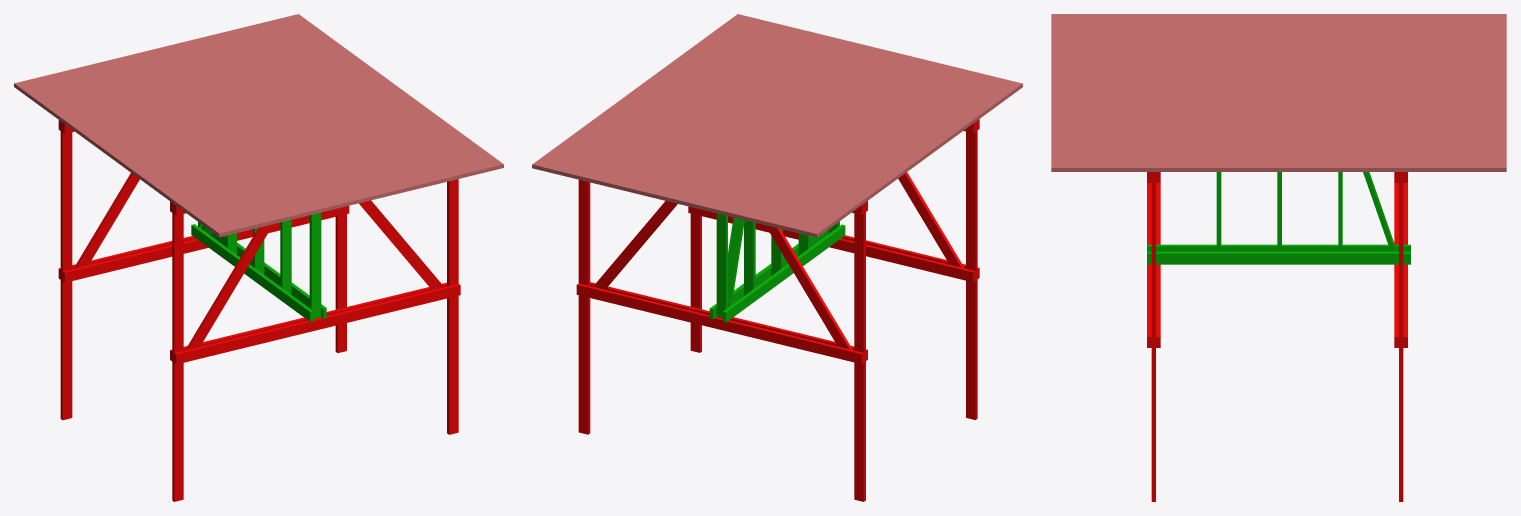
The model's file is result.glb.
3 views of the same model, side by side, from view 1: azimuth 30°, elevation 25°; view 2: azimuth 150°, elevation 25°; view 3: azimuth 270°, elevation 25° (orthographic). The views are drawn at different scales.
Visible parts, largest first — view 1: a7c42fb3-864b-46ea-a46b-86ad81dacef1__undefined, cdd0c3d6-4b4d-438e-8c69-cc004ac916c7__sideH, 1d789a78-2338-4fc1-8af0-4e735b23efe9__sideV, 739abf73-03b9-49d8-90ad-7254d4534e05__sideV, 1f3ede9b-6239-475a-b7fc-2927ff14ca6d__Box, 9e299f16-4678-448e-a8d7-bd8058979723__undefined, 7cb5459e-5a18-4056-b10f-47c450efceb4__undefined, c22b1072-e2bc-4392-9876-aa3f459491ad__undefined, 58cb578d-e434-43cd-85fd-0dd636f7fe42__undefined, 5210bee1-314a-4aca-9c41-fb273ec0efe6__undefined, ec302bc6-7ffb-402b-b221-3fe68ab036b6__undefined, 4bd7e661-c863-4440-85fc-f966e84fc7ba__undefined (+32 smaller); view 2: 445fff5d-1e2b-4940-abd0-f9b67cf6e413__undefined, 1d789a78-2338-4fc1-8af0-4e735b23efe9__sideV, a7c42fb3-864b-46ea-a46b-86ad81dacef1__undefined, a2efc457-425e-4bce-968c-cef8ab463d46__undefined, 1f3ede9b-6239-475a-b7fc-2927ff14ca6d__Box, 5203ca8e-d221-4033-a2f4-120769195a2e__undefined, 58cb578d-e434-43cd-85fd-0dd636f7fe42__undefined, d24879e6-f0d4-4a32-91ab-bf8e1de50eb4__undefined, b7513120-cd77-4ce2-8f02-cb816cfcf73c__undefined, aacc546a-8602-4979-9faf-734a89da980a__undefined, c22b1072-e2bc-4392-9876-aa3f459491ad__undefined, 1c41977b-fa87-4aad-ba0a-b808f178bc89__undefined (+33 smaller); view 3: 5f522d2f-fa7f-4da7-8231-edf2d0f4af2b__undefined, 138edc7c-f19b-42c7-b90f-72bb83ad81cc__strutH, aacc546a-8602-4979-9faf-734a89da980a__undefined, add5e845-2181-4620-85b9-eecc49f5c543__undefined, e7cebd10-3c72-4e38-b07a-ceec5323ef75__undefined, 5203ca8e-d221-4033-a2f4-120769195a2e__undefined, c22b1072-e2bc-4392-9876-aa3f459491ad__undefined, 5210bee1-314a-4aca-9c41-fb273ec0efe6__undefined, 58cb578d-e434-43cd-85fd-0dd636f7fe42__undefined, 1c41977b-fa87-4aad-ba0a-b808f178bc89__undefined, 7cb5459e-5a18-4056-b10f-47c450efceb4__undefined, 4bd7e661-c863-4440-85fc-f966e84fc7ba__undefined (+27 smaller).
Boxes of the visible parts, x1,y1,x2,y2 form: a7c42fb3-864b-46ea-a46b-86ad81dacef1__undefined: (60,121,72,420); cdd0c3d6-4b4d-438e-8c69-cc004ac916c7__sideH: (174,284,460,364); 1d789a78-2338-4fc1-8af0-4e735b23efe9__sideV: (172,203,183,501); 739abf73-03b9-49d8-90ad-7254d4534e05__sideV: (447,179,458,434); 1f3ede9b-6239-475a-b7fc-2927ff14ca6d__Box: (14,81,228,237); 9e299f16-4678-448e-a8d7-bd8058979723__undefined: (62,206,349,282); 7cb5459e-5a18-4056-b10f-47c450efceb4__undefined: (119,55,333,211); c22b1072-e2bc-4392-9876-aa3f459491ad__undefined: (62,69,276,225); 58cb578d-e434-43cd-85fd-0dd636f7fe42__undefined: (99,60,314,216); 5210bee1-314a-4aca-9c41-fb273ec0efe6__undefined: (71,67,285,223); ec302bc6-7ffb-402b-b221-3fe68ab036b6__undefined: (90,62,304,218); 4bd7e661-c863-4440-85fc-f966e84fc7ba__undefined: (128,53,342,209); 445fff5d-1e2b-4940-abd0-f9b67cf6e413__undefined: (576,283,863,364); 1d789a78-2338-4fc1-8af0-4e735b23efe9__sideV: (966,120,977,419); a7c42fb3-864b-46ea-a46b-86ad81dacef1__undefined: (854,202,865,501); a2efc457-425e-4bce-968c-cef8ab463d46__undefined: (578,180,590,434); 1f3ede9b-6239-475a-b7fc-2927ff14ca6d__Box: (807,81,1022,237); 5203ca8e-d221-4033-a2f4-120769195a2e__undefined: (769,72,984,228); 58cb578d-e434-43cd-85fd-0dd636f7fe42__undefined: (722,60,936,216); d24879e6-f0d4-4a32-91ab-bf8e1de50eb4__undefined: (636,39,851,195); b7513120-cd77-4ce2-8f02-cb816cfcf73c__undefined: (589,28,803,184); aacc546a-8602-4979-9faf-734a89da980a__undefined: (798,79,1012,235); c22b1072-e2bc-4392-9876-aa3f459491ad__undefined: (760,69,974,225); 1c41977b-fa87-4aad-ba0a-b808f178bc89__undefined: (712,58,927,214); 5f522d2f-fa7f-4da7-8231-edf2d0f4af2b__undefined: (1051,162,1506,171); 138edc7c-f19b-42c7-b90f-72bb83ad81cc__strutH: (1147,251,1410,264); aacc546a-8602-4979-9faf-734a89da980a__undefined: (1051,19,1506,24); add5e845-2181-4620-85b9-eecc49f5c543__undefined: (1051,24,1506,29); e7cebd10-3c72-4e38-b07a-ceec5323ef75__undefined: (1051,29,1506,34); 5203ca8e-d221-4033-a2f4-120769195a2e__undefined: (1051,34,1506,39); c22b1072-e2bc-4392-9876-aa3f459491ad__undefined: (1051,39,1506,44); 5210bee1-314a-4aca-9c41-fb273ec0efe6__undefined: (1051,44,1506,49); 58cb578d-e434-43cd-85fd-0dd636f7fe42__undefined: (1051,60,1506,65); 1c41977b-fa87-4aad-ba0a-b808f178bc89__undefined: (1051,65,1506,70); 7cb5459e-5a18-4056-b10f-47c450efceb4__undefined: (1051,70,1506,75); 4bd7e661-c863-4440-85fc-f966e84fc7ba__undefined: (1051,75,1506,80).
Bounding box in the file's own units: 1200 × 1215 × 1500.
